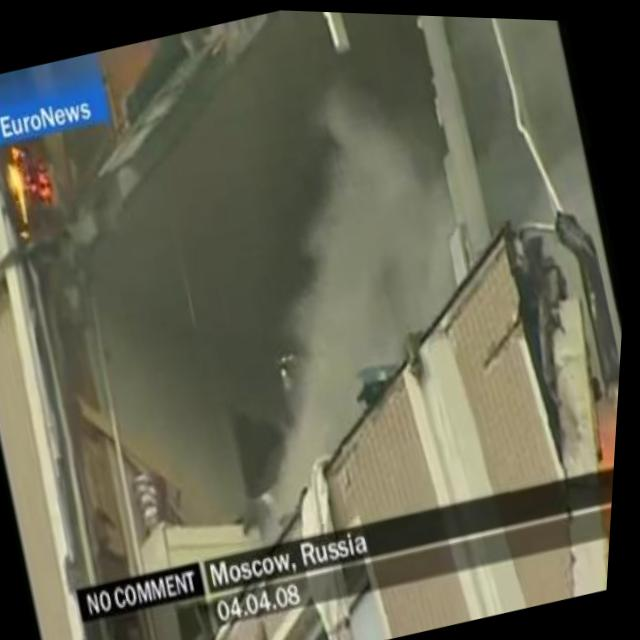fire: (0, 132, 72, 236)
